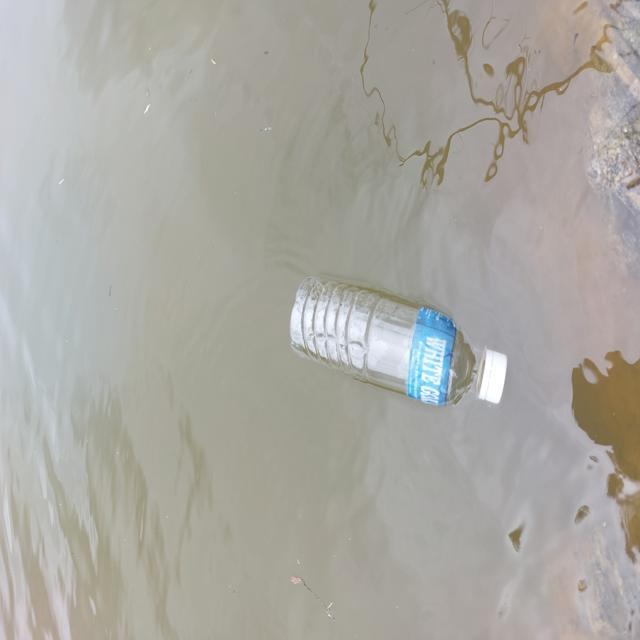waterbottle: (288, 279, 509, 435)
